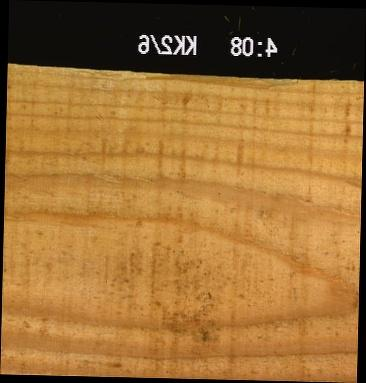wave: (119, 72, 335, 84)
